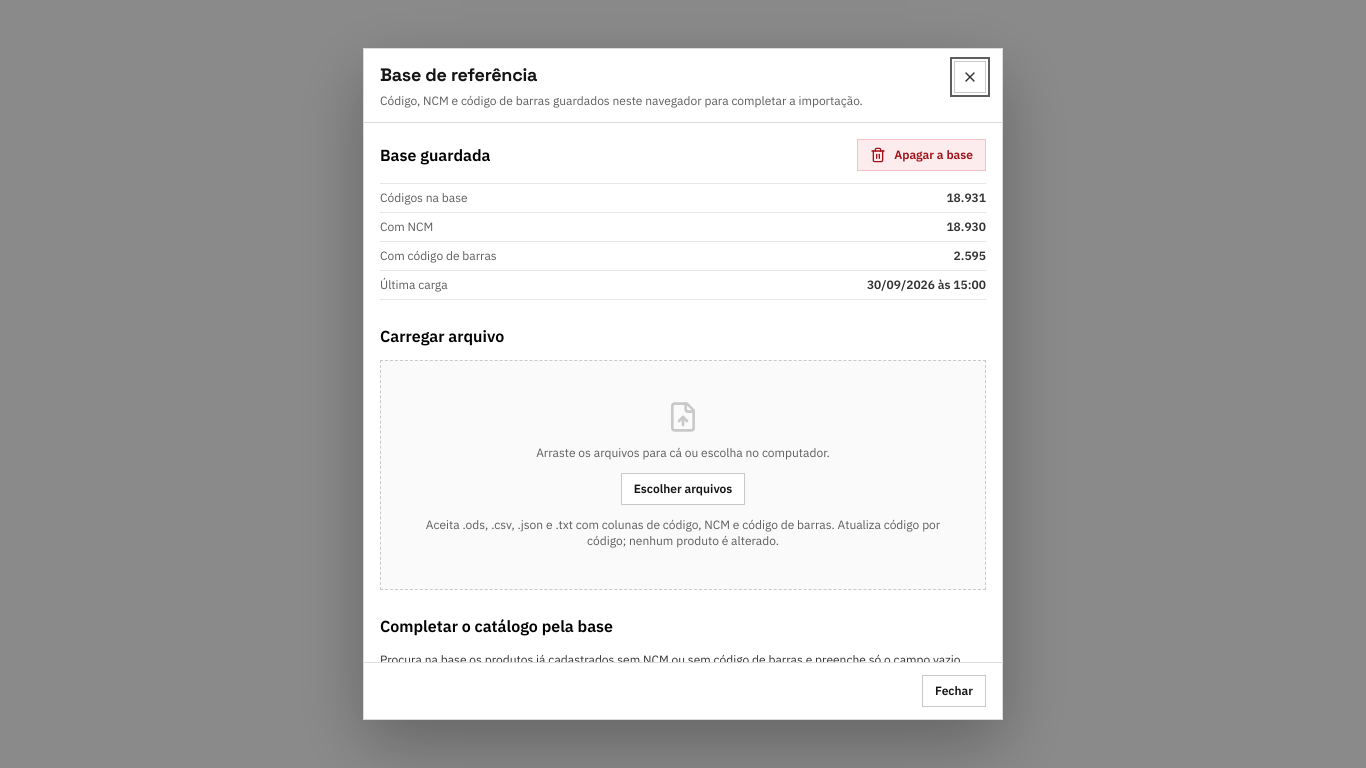
Test: apagar a base › pede confirmacao com o total e apaga sem tocar o catalogo
Click the button "Apagar a base": (922, 154) [857,138,986,170]
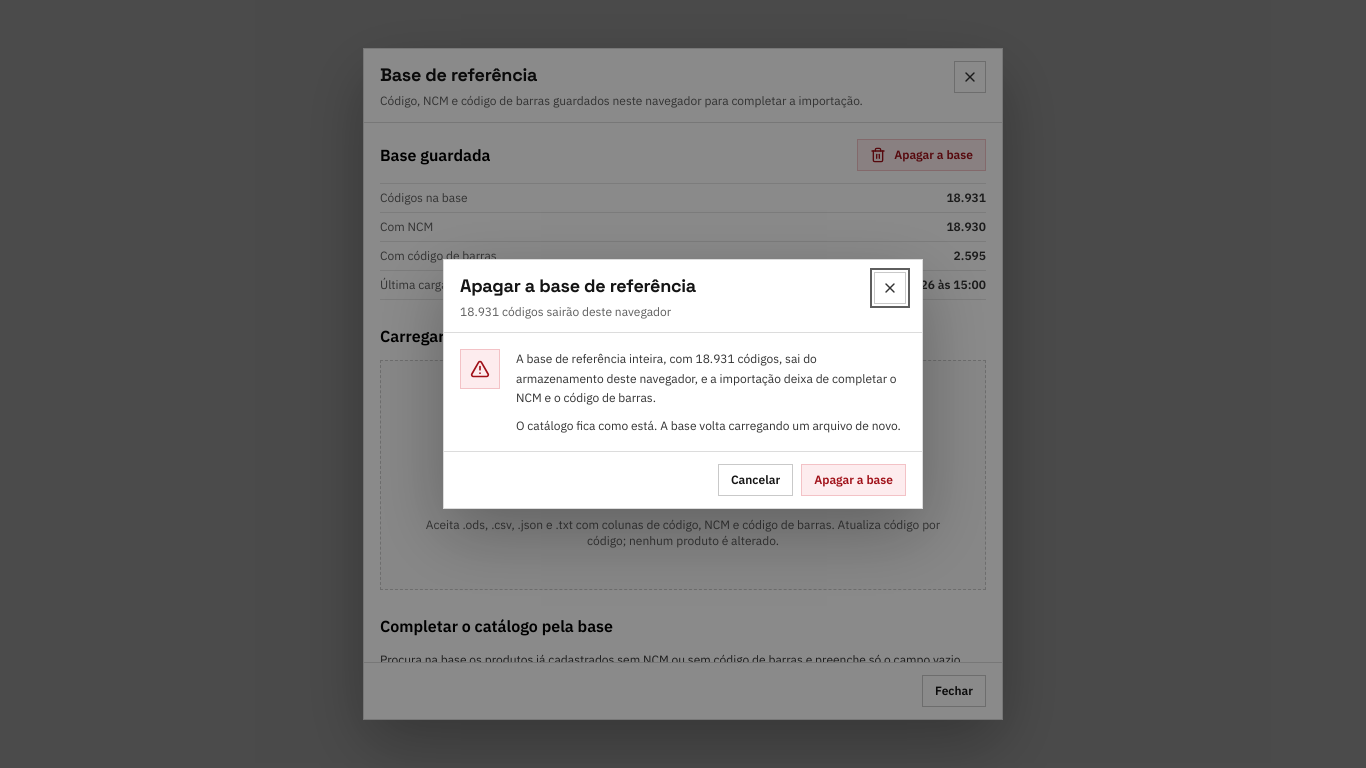
Now the dialog shows "18.931 códigos", box [696,351,779,366]
Now the dialog shows "O catálogo fica como está.", box [516,418,901,433]
Now the button "Apagar a base" below "A base de referência inteira, com" is shown
Click the button "Apagar a base" below "A base de referência inteira, com": (854, 480) [801,464,906,496]
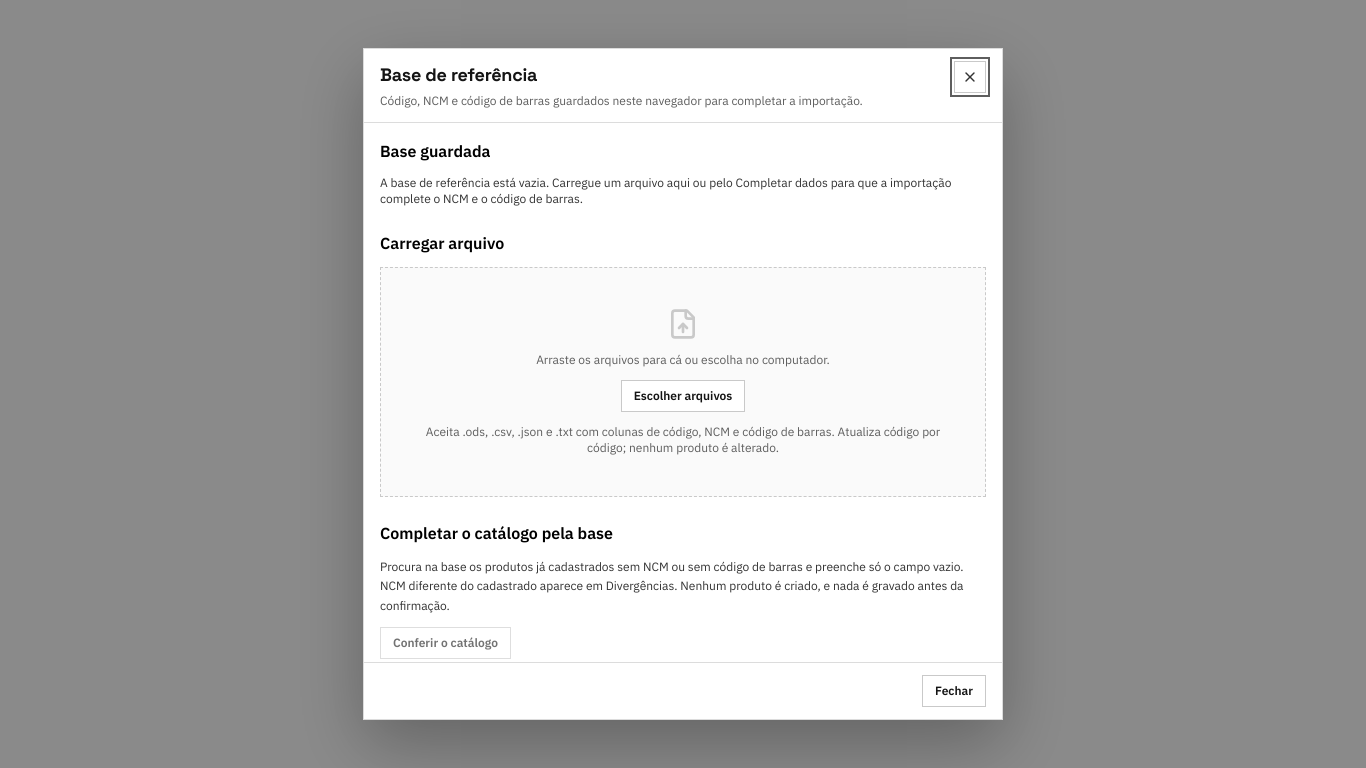
Now the message is shown, box [380,174,986,206]
